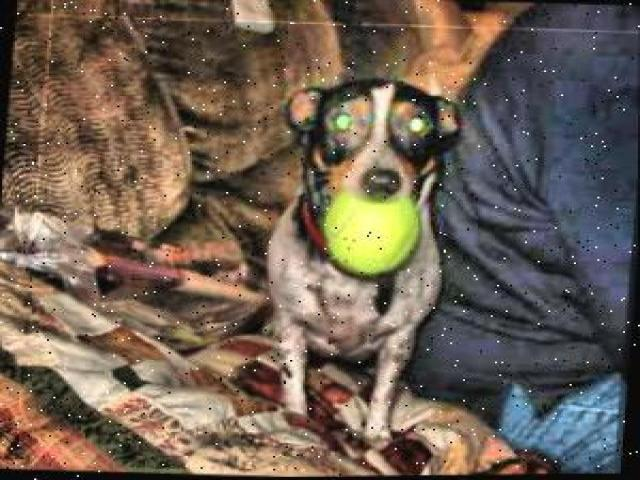tennis-ball: (322, 191, 422, 279)
